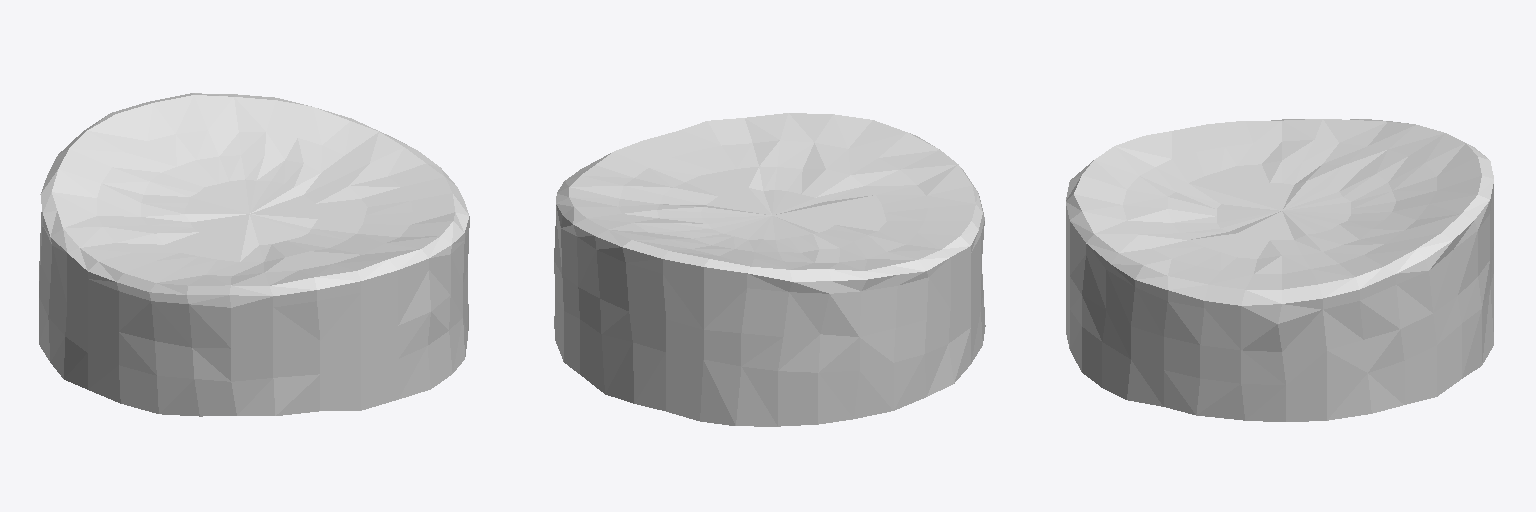
The model's file is left_home_button.obj.
The picture shows the model from 3 angles: view 1: azimuth 30°, elevation 25°; view 2: azimuth 150°, elevation 25°; view 3: azimuth 270°, elevation 25°; orthographic projection.
Visible parts, largest first — view 1: left_home_button; view 2: left_home_button; view 3: left_home_button.
Part boxes in pixels (bbox=[...]): left_home_button: bbox=[39, 93, 469, 416]; left_home_button: bbox=[554, 113, 985, 426]; left_home_button: bbox=[1066, 119, 1493, 421].
Size of the model in its own units: 0.0107 by 0.0043 by 0.0105.